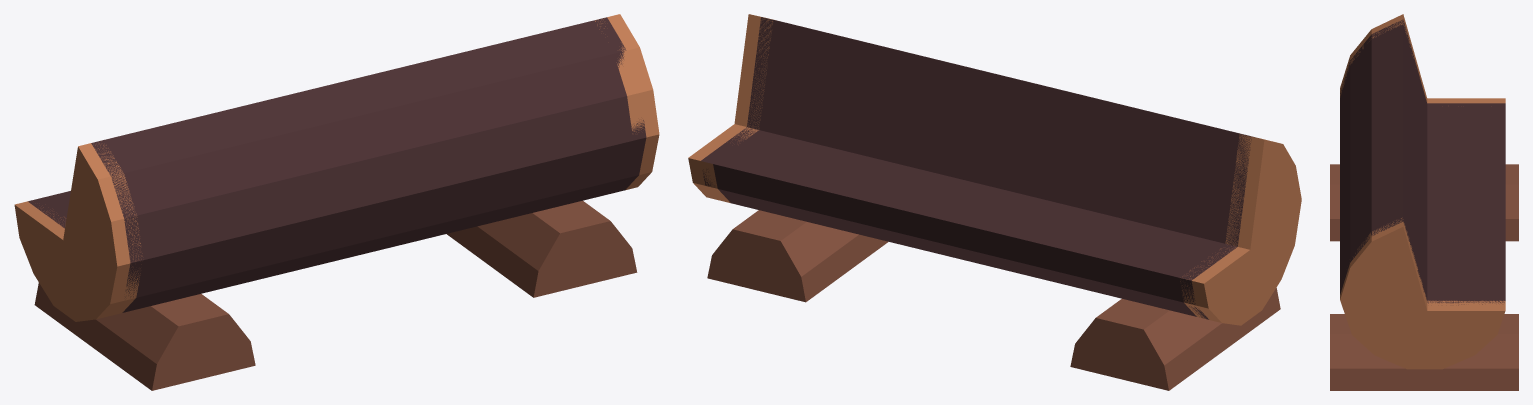
3 views of the same model, side by side, from view 1: azimuth 30°, elevation 25°; view 2: azimuth 150°, elevation 25°; view 3: azimuth 270°, elevation 25° (orthographic). The views are drawn at different scales.
Visible parts, largest first — view 1: bench; view 2: bench; view 3: bench.
Boxes of the visible parts, x1,y1,x2,y2 form: bench: (14, 14, 659, 390); bench: (688, 14, 1301, 390); bench: (1330, 14, 1518, 390).
Size of the model in its own units: 1.2 by 0.4625 by 0.4507.
